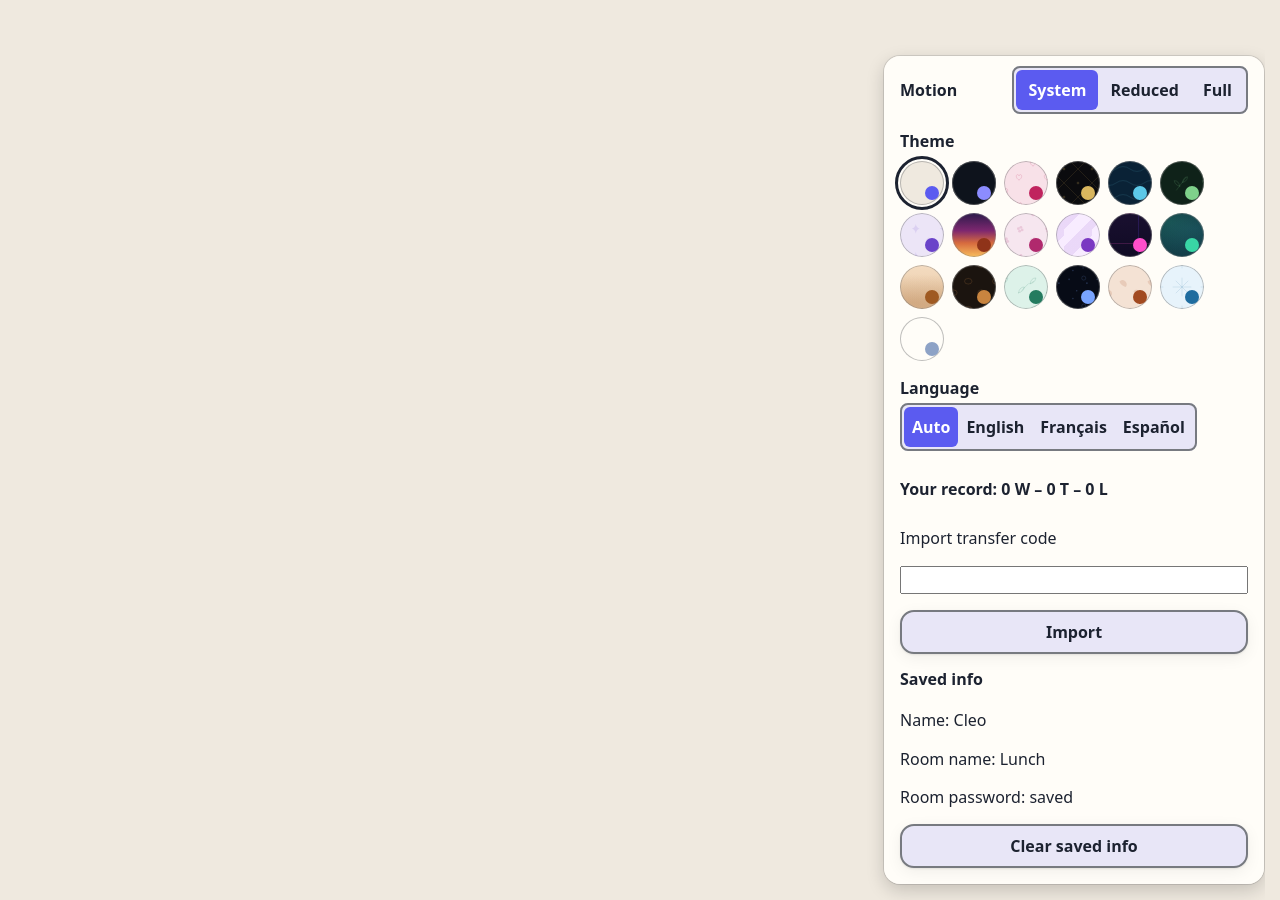
it: Settings saved info › shows no password and Clear saved info wipes everything
(page scrolled)
expect the list item "Room password: saved" is shown: met, box [900, 786, 1073, 808]
Click the button "Clear saved info": (1074, 846) [900, 824, 1248, 868]
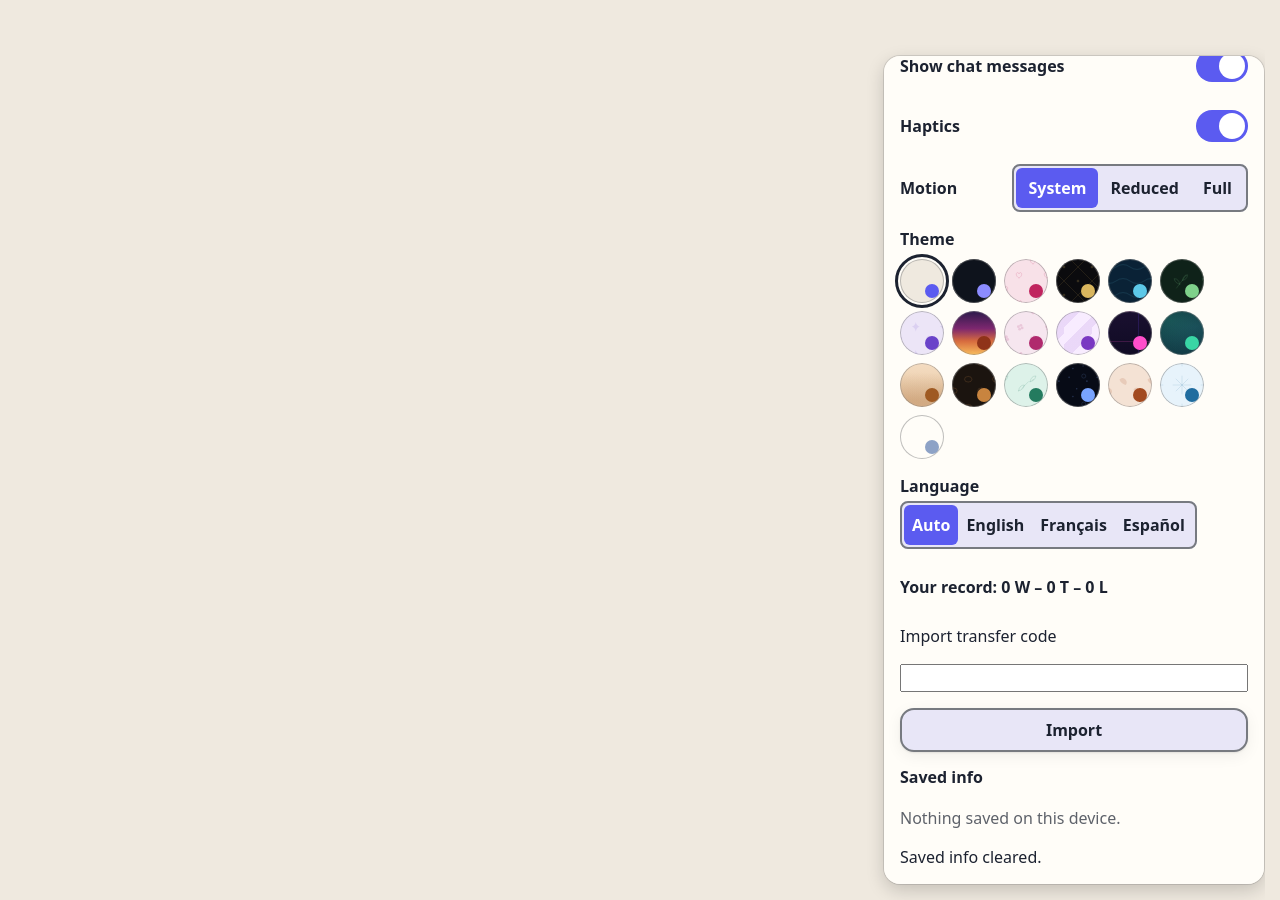
expect the text "Nothing saved on this device." is shown: met, box [900, 807, 1120, 829]
